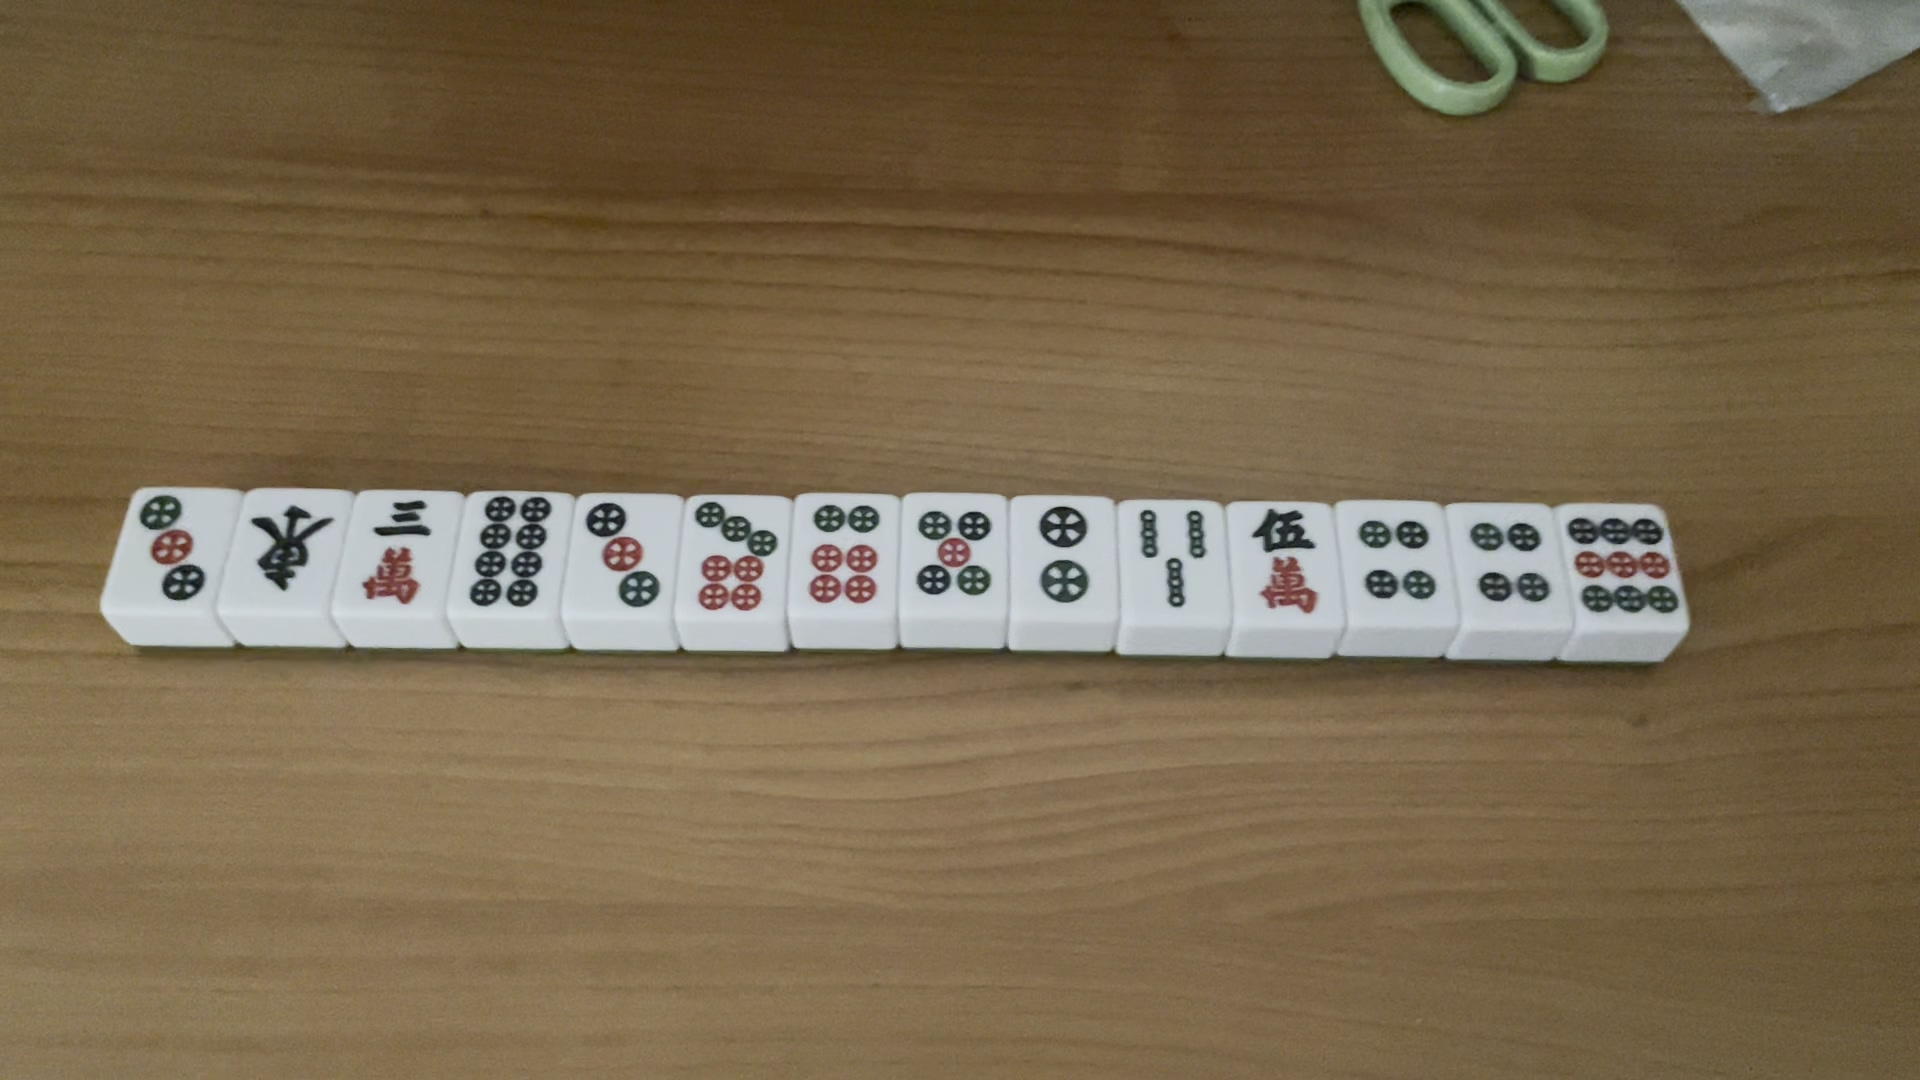b-3: (1135, 504, 1216, 617)
c-3: (351, 493, 436, 611)
c-5: (1245, 502, 1327, 620)
d-2: (1023, 504, 1100, 611)
d-3: (128, 491, 208, 615), (580, 501, 661, 612)
d-4: (1466, 512, 1560, 615), (1354, 506, 1441, 612)
d-5: (909, 498, 1000, 609)
d-6: (791, 502, 893, 609)
d-7: (687, 495, 781, 615)
d-8: (458, 492, 560, 617)
d-9: (1567, 512, 1680, 624)
honors-east: (247, 498, 336, 597)
